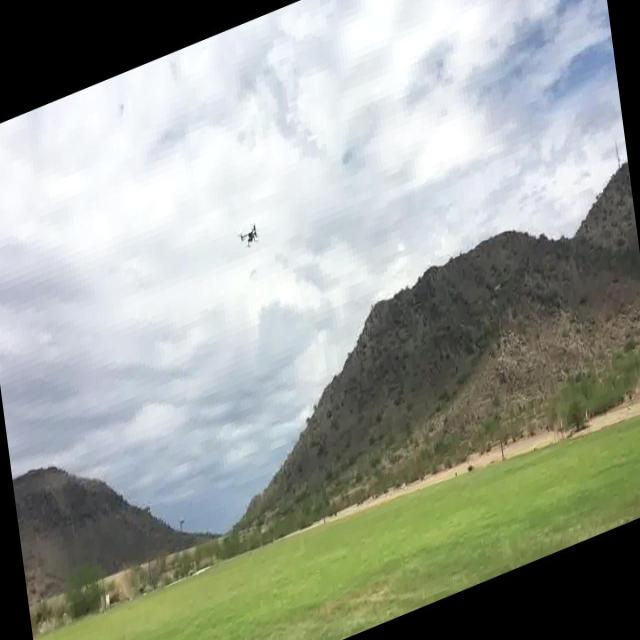drone: (235, 218, 262, 256)
